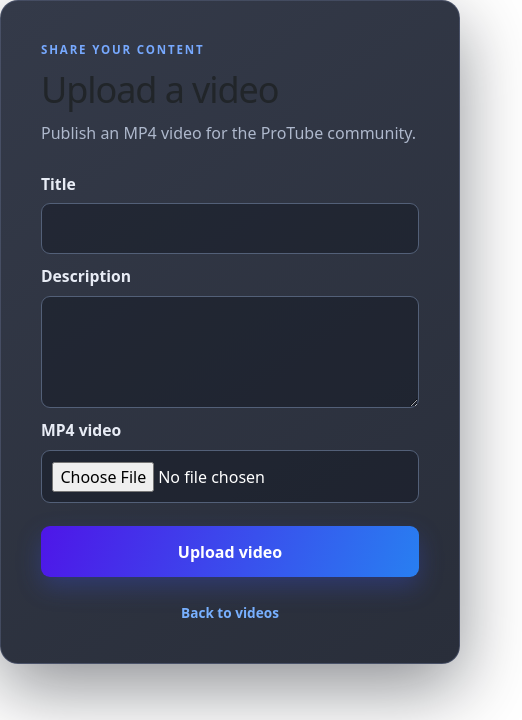
Test: UploadForm › validates required fields and MP4 format
Click the button "Upload video" at (230, 552), box [41, 526, 419, 577]
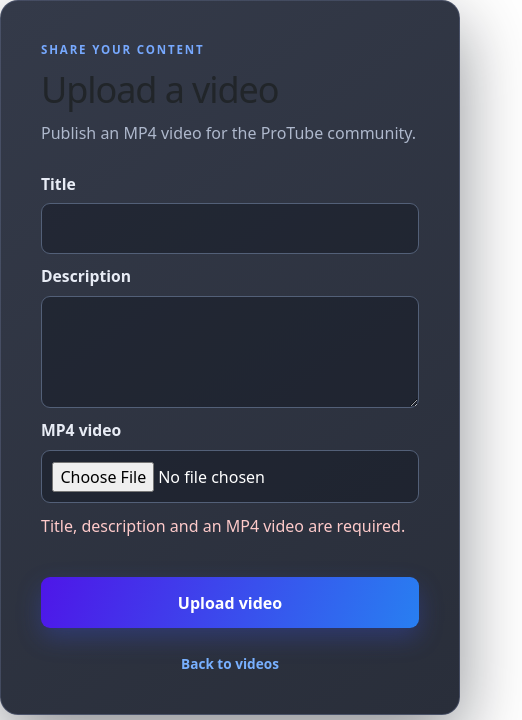
Expected: the message reads "Title, description and an MP4 video are required.", [41, 515, 405, 537]
